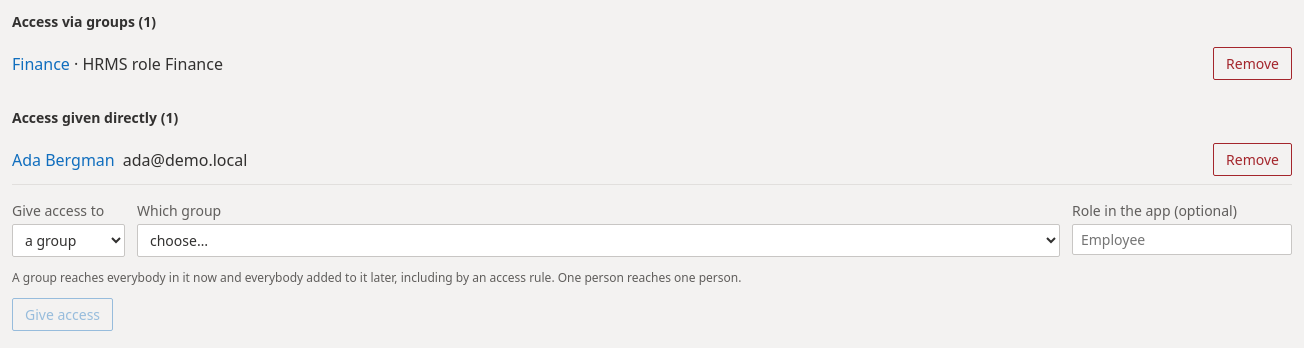
Scenario: granting to one person drops that warning
The grant form's first select chooses between a group and one person.
Select "one person" in the dropdown labelled "Give access to" at (68, 240), box [12,224,125,257]
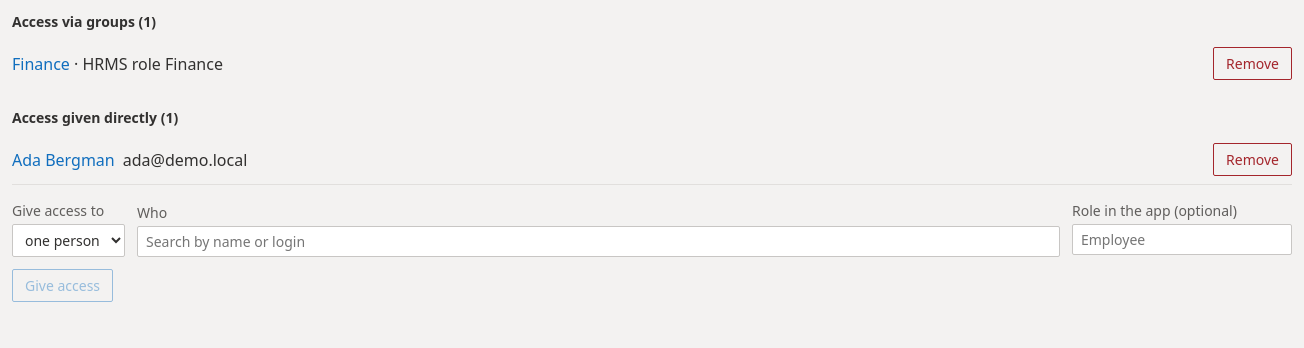
Now the text "everybody in it now and everybody added to it later" is gone
